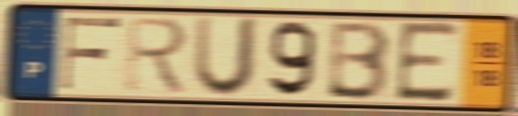9: (265, 19, 320, 99)
B: (323, 18, 393, 103)
E: (393, 18, 463, 105)
F: (57, 15, 124, 93)
R: (123, 14, 191, 98)
U: (190, 13, 263, 101)
